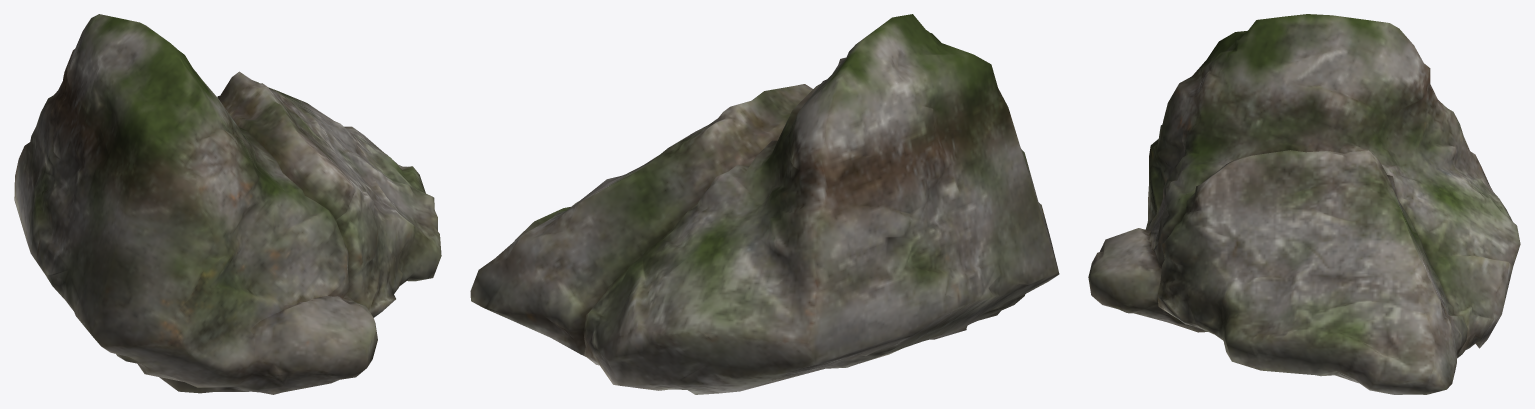
File: Outcrop_A.fbx
The picture shows the model from 3 angles, left to right: view 1: azimuth 30°, elevation 25°; view 2: azimuth 150°, elevation 25°; view 3: azimuth 270°, elevation 25°; orthographic projection. The views are drawn at different scales.
Visible parts, largest first — view 1: Outcrop_A_LOD0; view 2: Outcrop_A_LOD0; view 3: Outcrop_A_LOD0.
Boxes of the visible parts, box(x1,y1,x2,y2) form: Outcrop_A_LOD0: box(14, 14, 441, 394); Outcrop_A_LOD0: box(470, 14, 1059, 394); Outcrop_A_LOD0: box(1088, 14, 1520, 394).
Size of what is drawn, in the model's own units: 5.39 by 3.86 by 5.35.
1 material, 1 textured.
